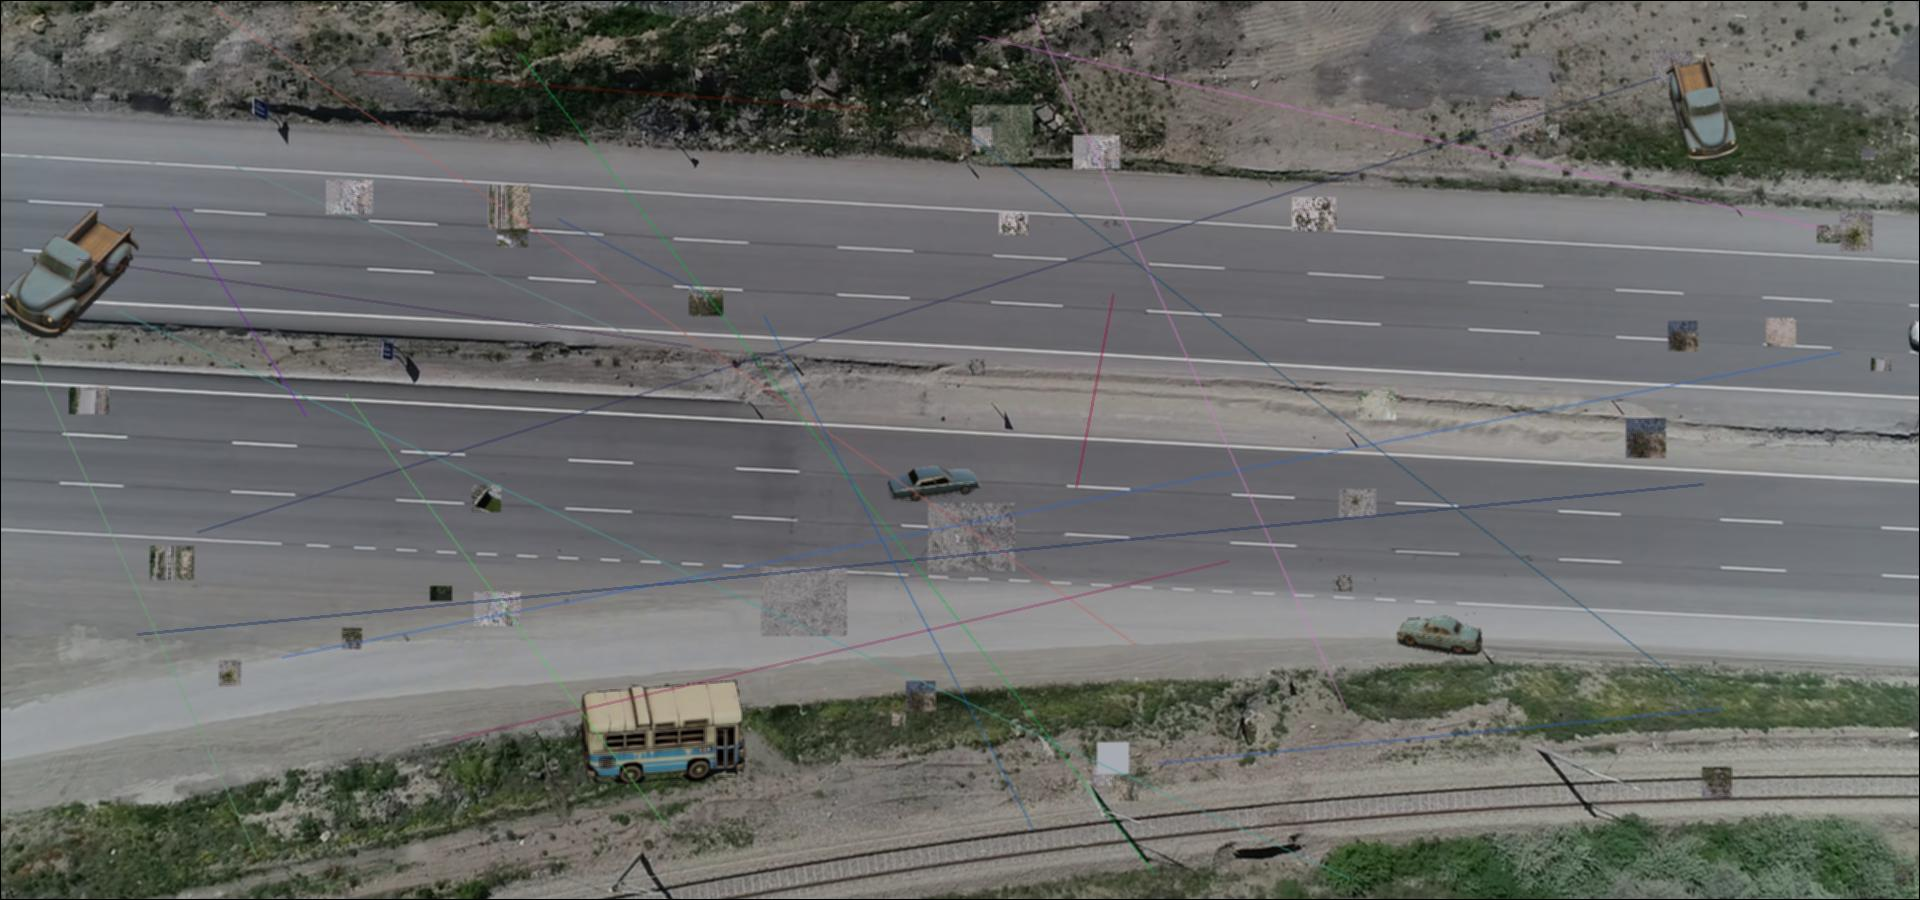arac: (576, 677, 744, 782), (2, 211, 140, 338), (1663, 56, 1739, 160), (885, 465, 983, 502), (1397, 613, 1482, 655)
